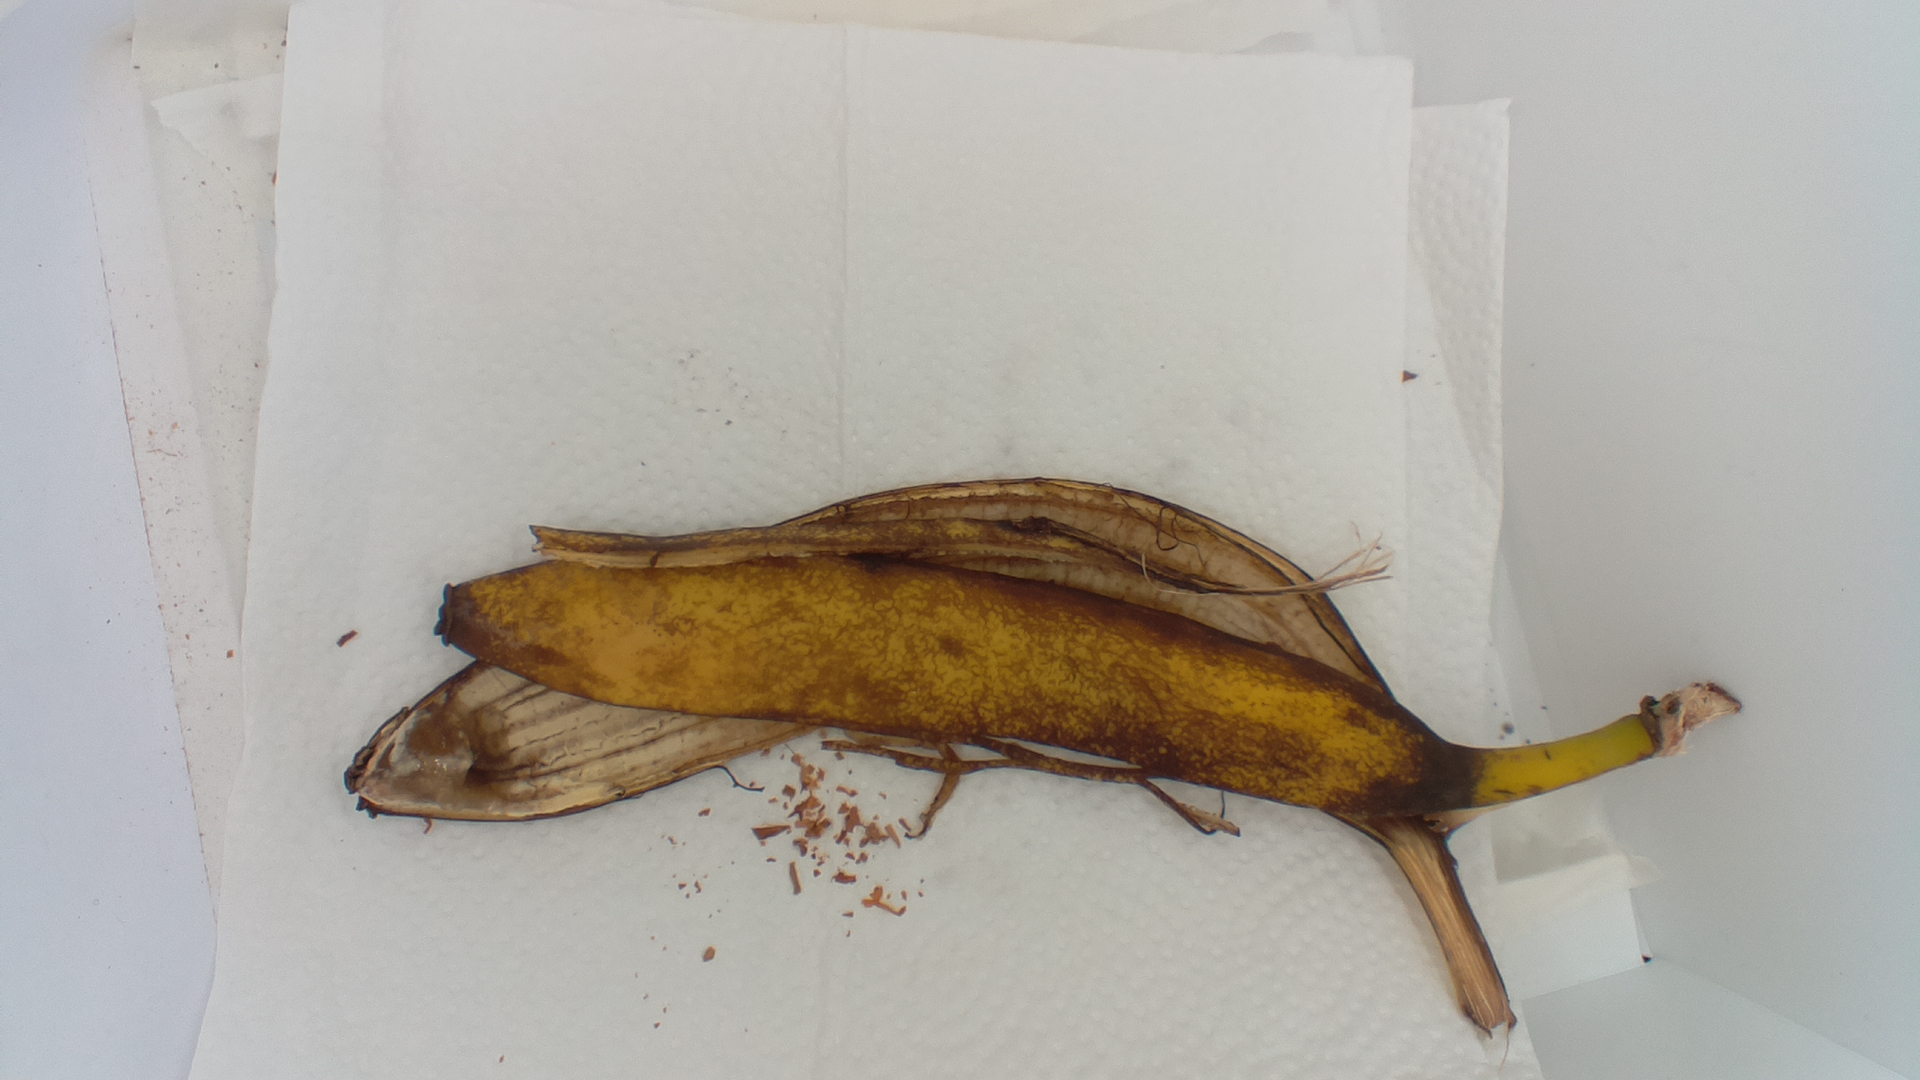fruit: (343, 468, 1754, 1046)
